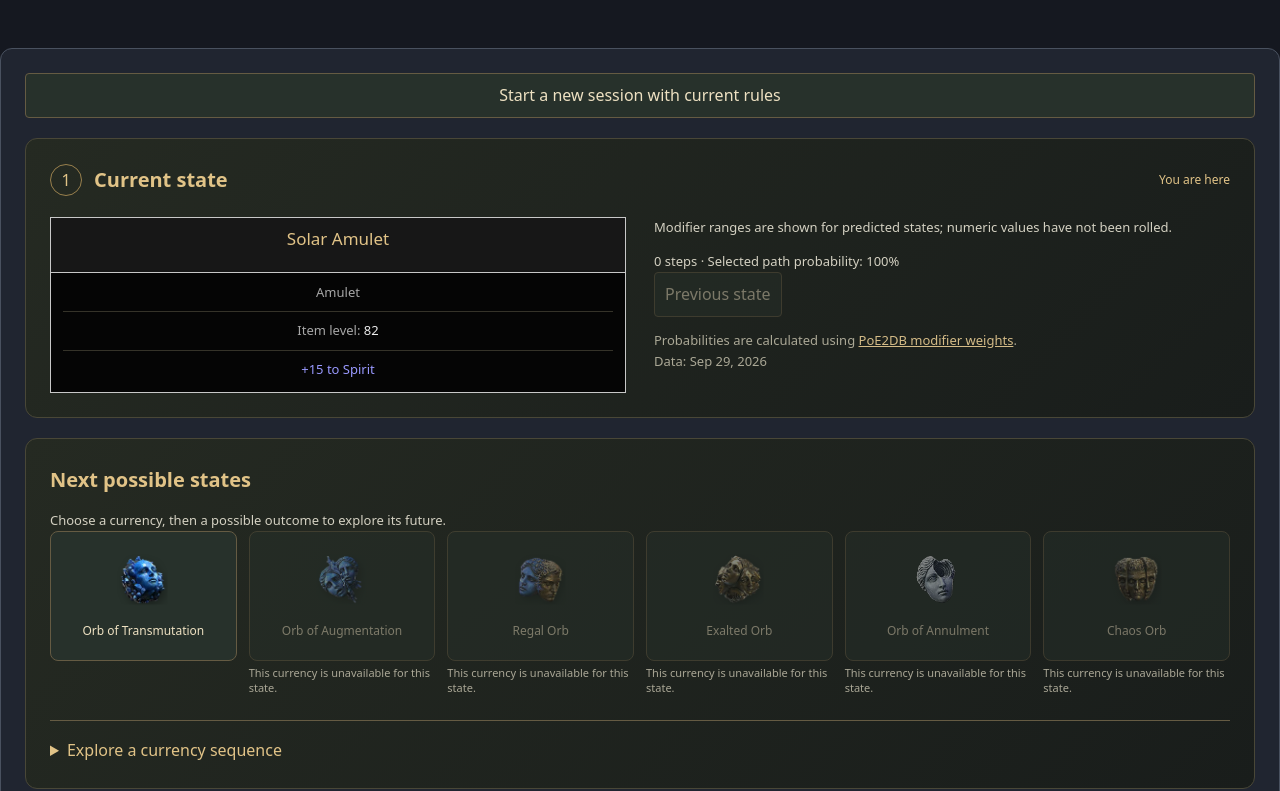
Test case: Crafting probability explorer › keeps the item and shows a retryable error after an invalid result
The width and height of the screenshot is (1280, 791).
What coordinates should you click on to do the following:
click the button with aria-label "Preview Orb of Transmutation"
I would click on:
 (143, 596)
Its box is 50,531 -> 237,661.
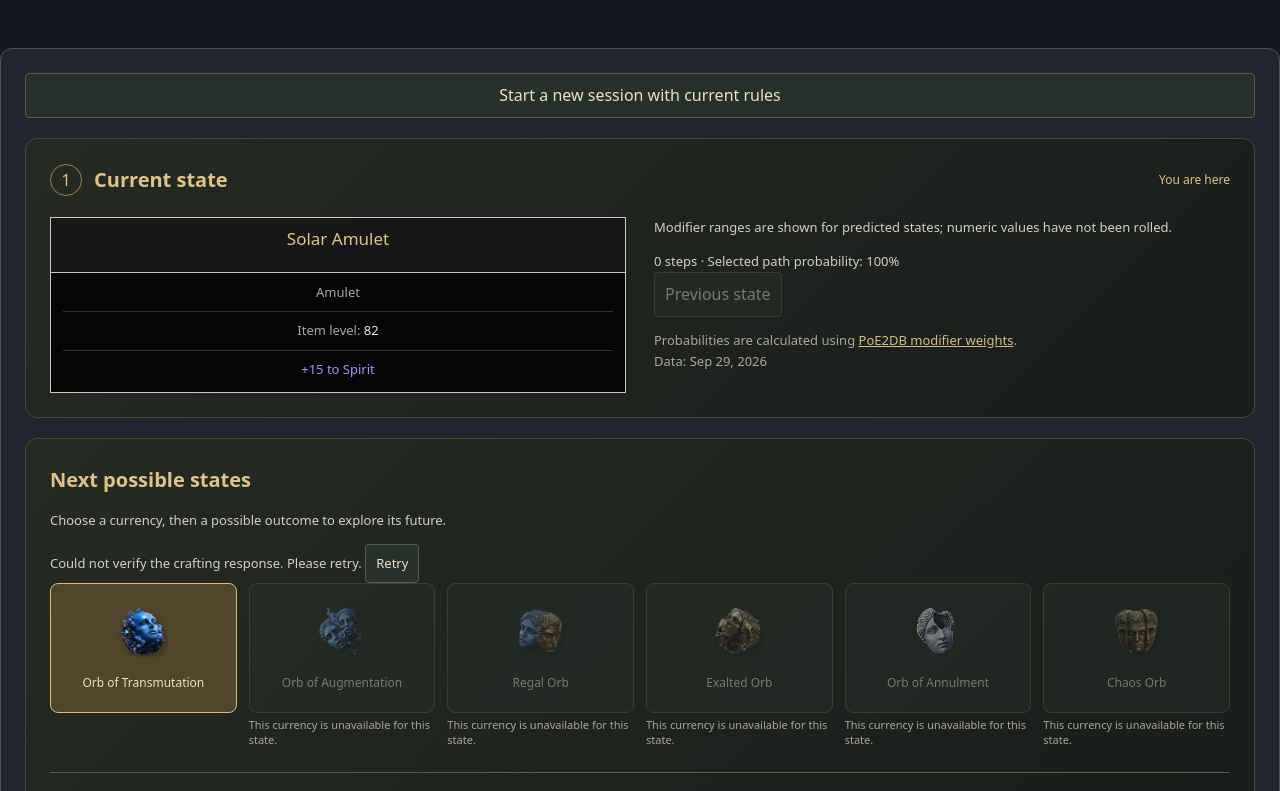
Now the message shows "Could not verify", box 50,554 -> 362,572
